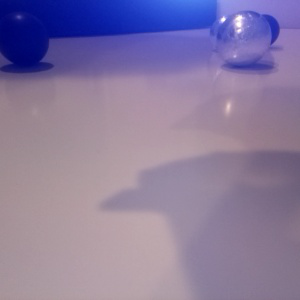alive_ball: (218, 11, 272, 66), (210, 15, 243, 51)
dead_ball: (1, 12, 51, 67), (254, 15, 282, 46)
